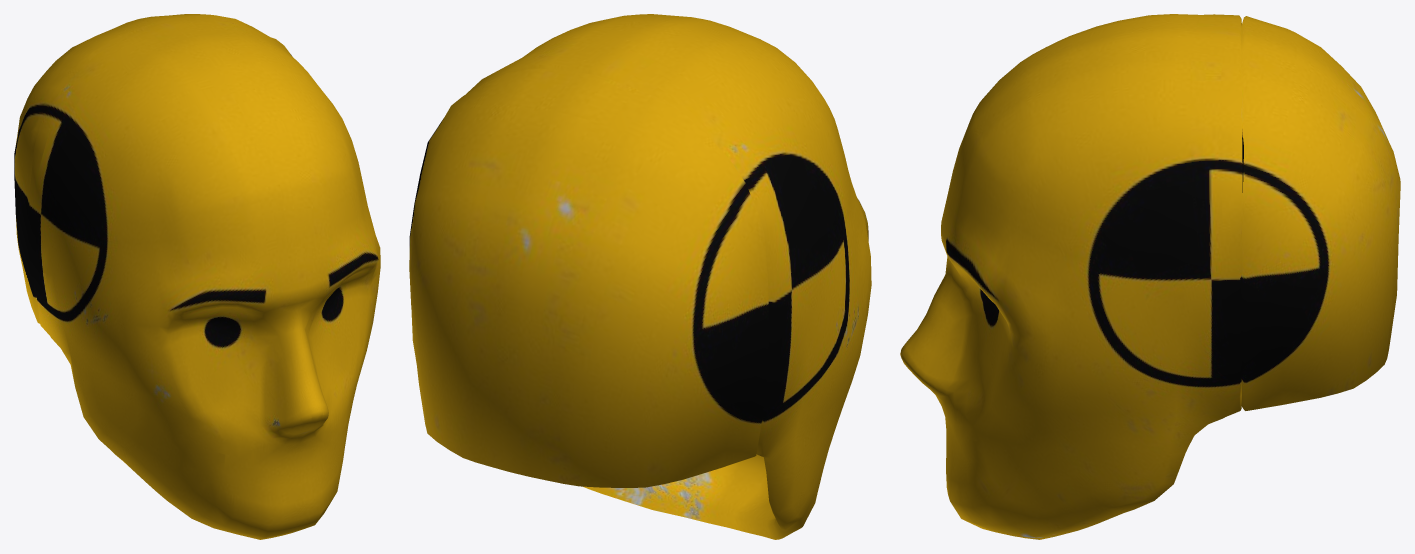
The model's file is head.glb.
The picture shows the model from 3 angles, left to right: view 1: azimuth 30°, elevation 25°; view 2: azimuth 150°, elevation 25°; view 3: azimuth 270°, elevation 25°; orthographic projection. The views are drawn at different scales.
Parts seen in each view (by area): view 1: Head, Back; view 2: Back, Head; view 3: Head, Back.
Boxes of the visible parts, x1,y1,x2,y2 form: Head: [29, 17, 380, 539]; Back: [14, 14, 262, 323]; Back: [409, 68, 768, 487]; Head: [466, 14, 871, 539]; Head: [900, 14, 1242, 539]; Back: [1241, 16, 1400, 410].
Bounding box in the file's own units: 0.1518 × 0.2265 × 0.2087.
Materials: 1 (1 with a texture image).
